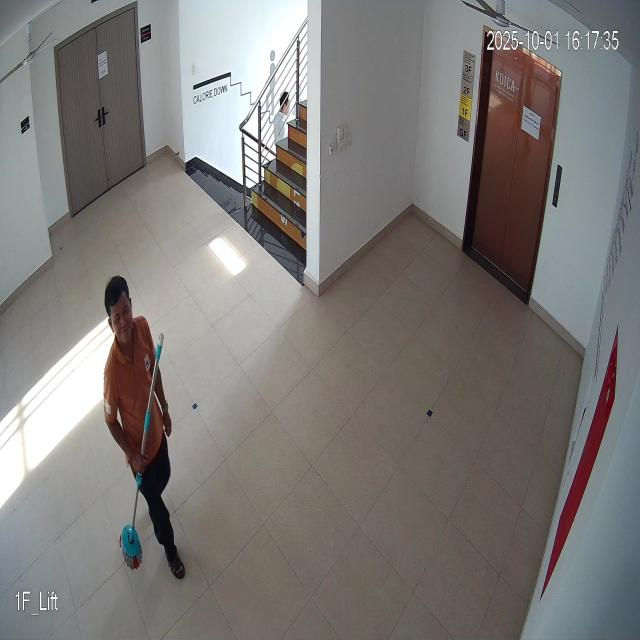face: (101, 266, 142, 353)
